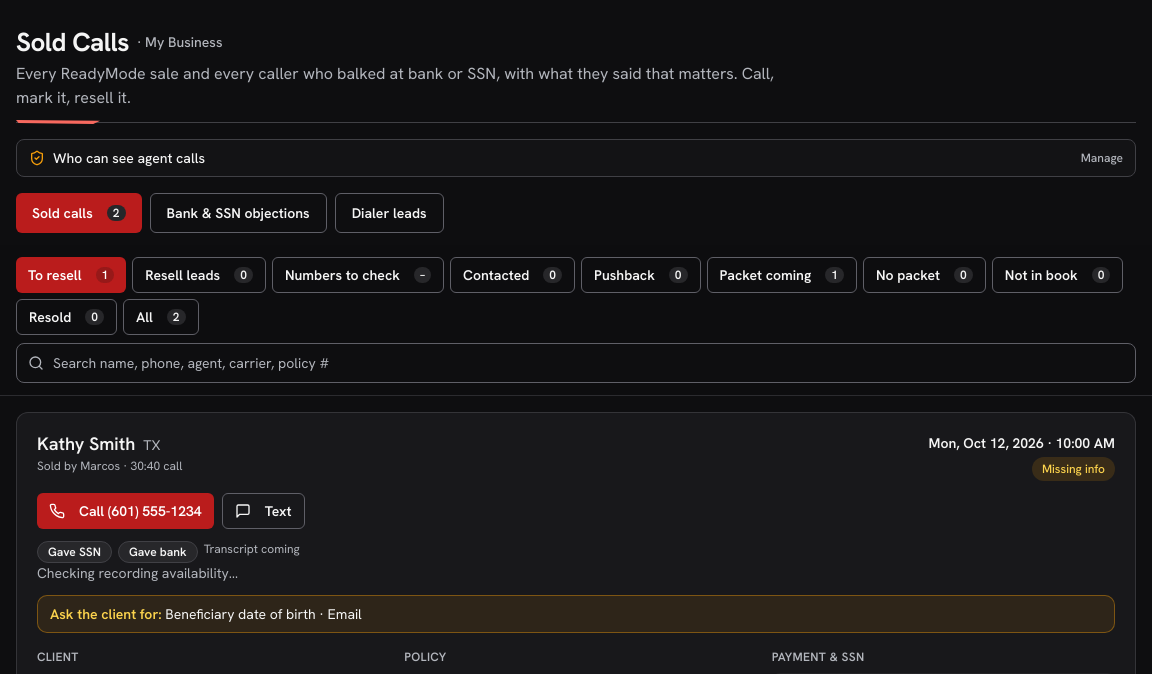
Test: Sold Calls › starts on the sales left to resell and keeps waiting sales one tap away
The width and height of the screenshot is (1152, 674).
Click the button "Packet coming 1".
click(782, 275)  # box 707,257 -> 857,293
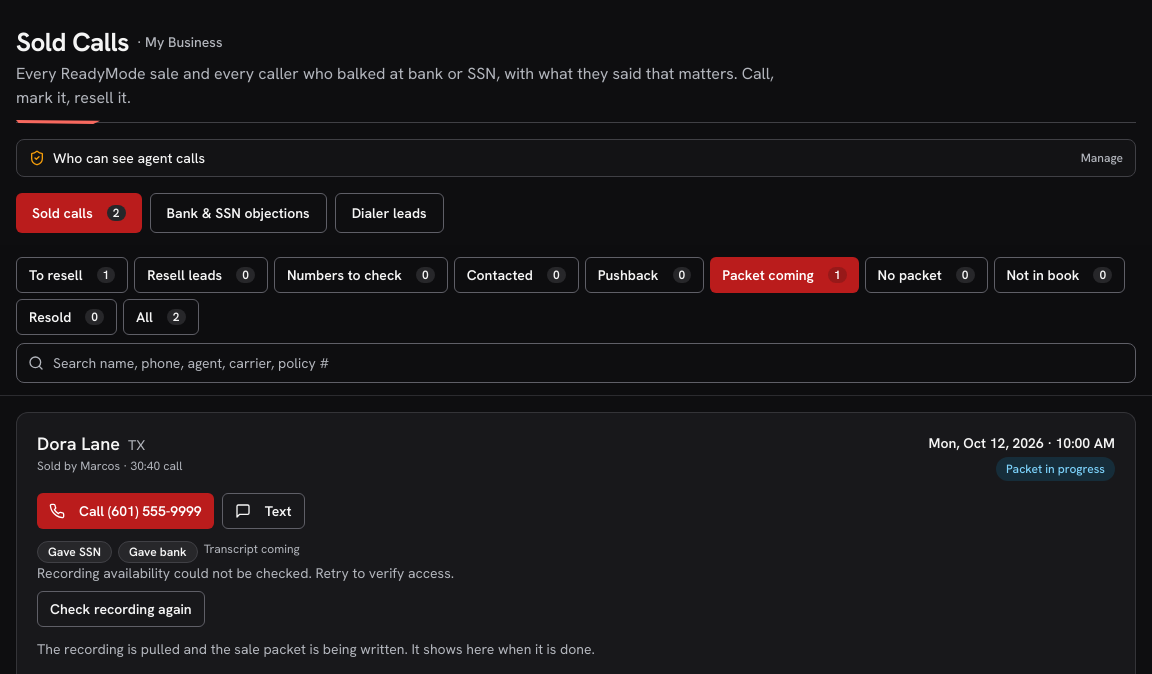
Check: the text "sale packet is being written" is shown, box 37,640 -> 595,658
Check: the link "Call (601) 555-9999" is shown, box 37,493 -> 214,529
